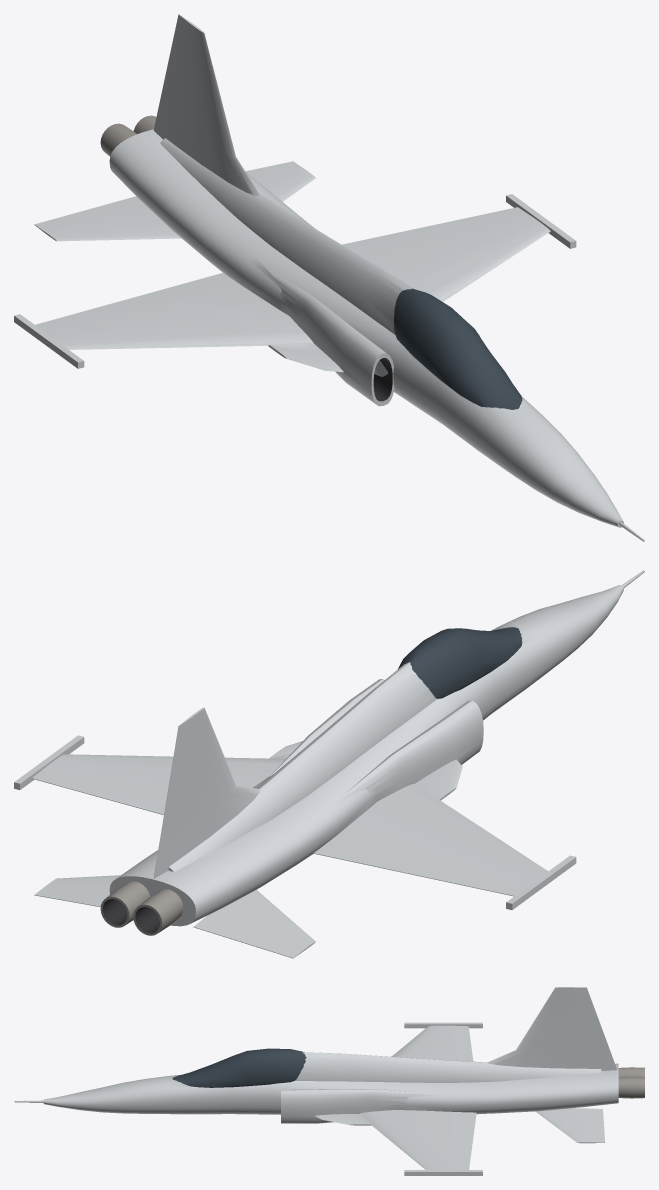
3 views of the same model, one above another, from view 1: azimuth 30°, elevation 25°; view 2: azimuth 150°, elevation 25°; view 3: azimuth 270°, elevation 25° (orthographic). The views are drawn at different scales.
Visible parts, largest first — view 1: Airframe; view 2: Airframe; view 3: Airframe.
Boxes of the visible parts, <box> form: Airframe: <box>14,14,644,541</box>; Airframe: <box>14,570,644,958</box>; Airframe: <box>14,987,644,1175</box>.
Size of the model in its own units: 8.08 by 3.1 by 14.42.
